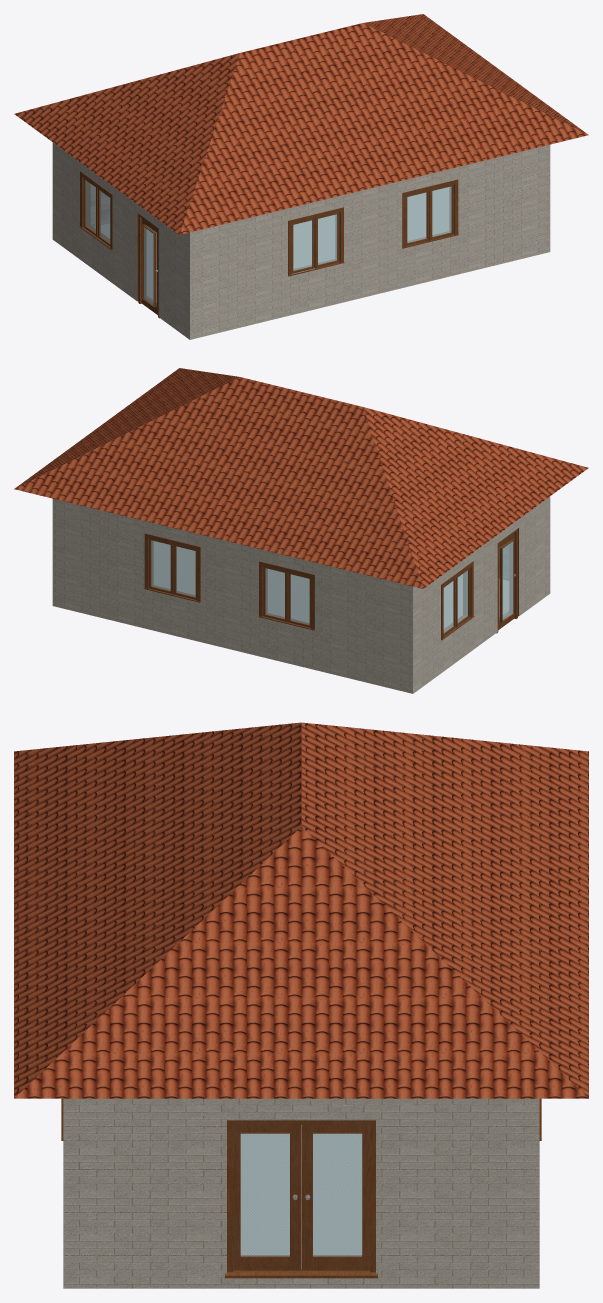
File: telhado33.dae
3 renders of one model, top to bottom at view 1: azimuth 30°, elevation 25°; view 2: azimuth 150°, elevation 25°; view 3: azimuth 270°, elevation 25°, orthographic. The views are drawn at different scales.
Parts seen in each view (by area): view 1: SketchUp (×16); view 2: SketchUp (×14); view 3: SketchUp (×8).
Part boxes in pixels (x1=…): SketchUp (×16): x1=14, y1=14, x2=588, y2=339; SketchUp (×14): x1=14, y1=368, x2=588, y2=693; SketchUp (×8): x1=14, y1=722, x2=588, y2=1288.
Bounding box in the file's own units: 394 × 276 × 193.
Materials: 10 (7 with a texture image).
